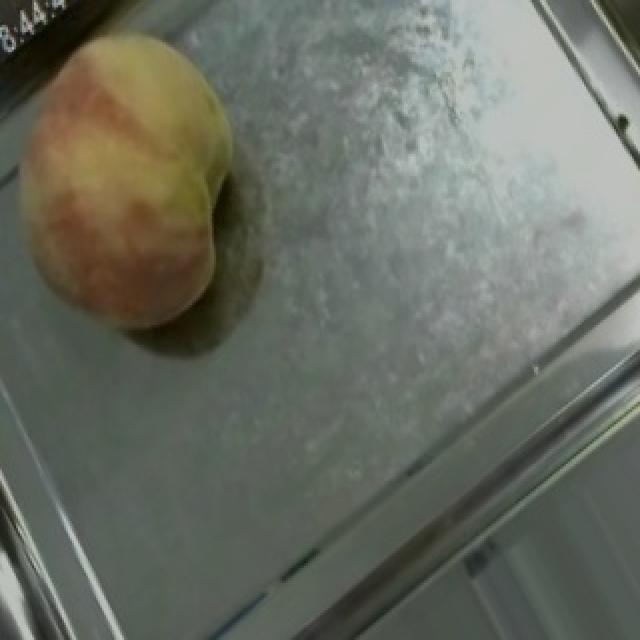Fruit: (0, 0, 280, 370)
